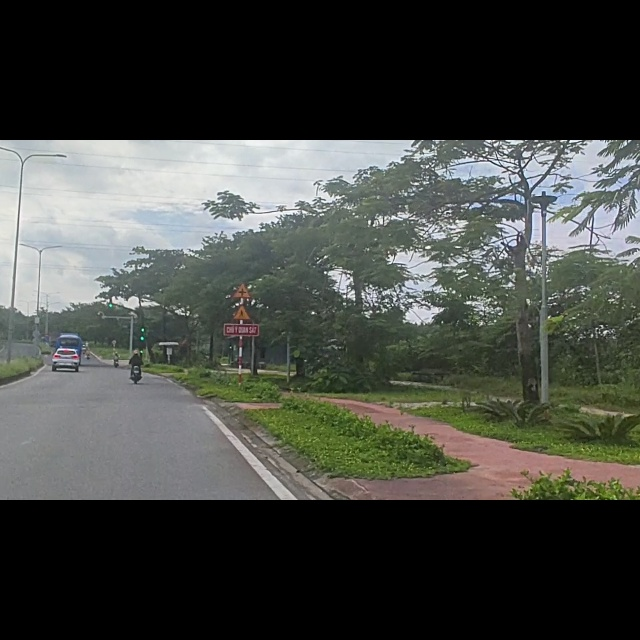bien_nguy_hiem: (232, 292, 253, 324), (233, 254, 252, 281)
